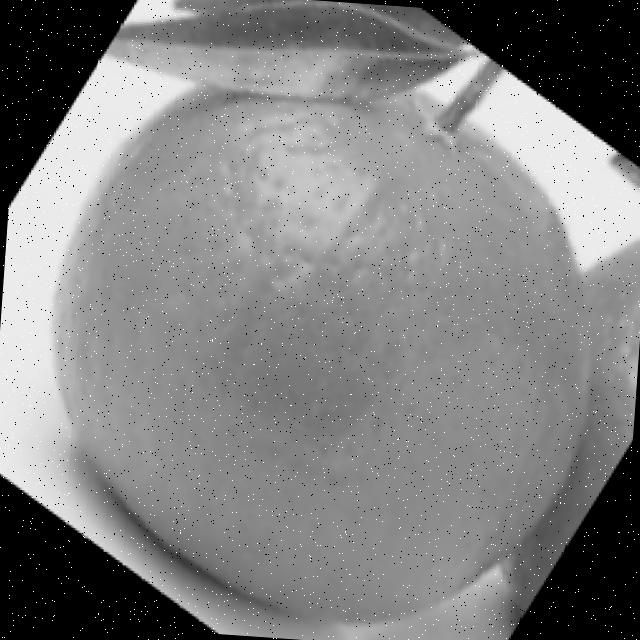orange: (30, 64, 608, 637)
